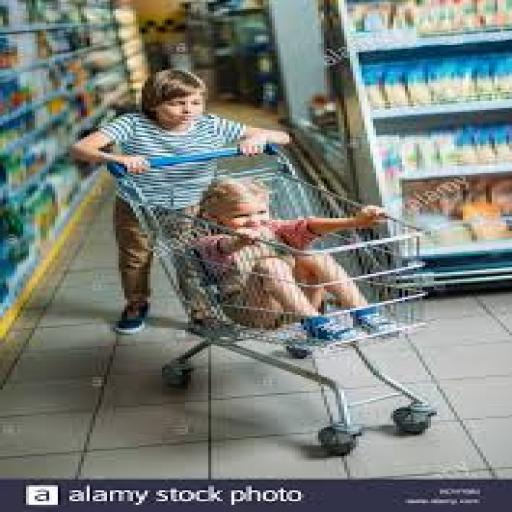shopping_cart: (109, 138, 432, 458)
